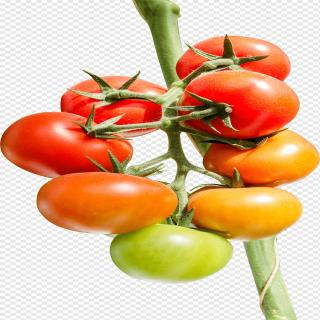Tomat: (2, 105, 136, 180), (185, 168, 304, 243), (177, 70, 301, 141), (60, 70, 172, 139), (110, 224, 235, 285), (202, 128, 320, 188), (176, 35, 292, 83)
